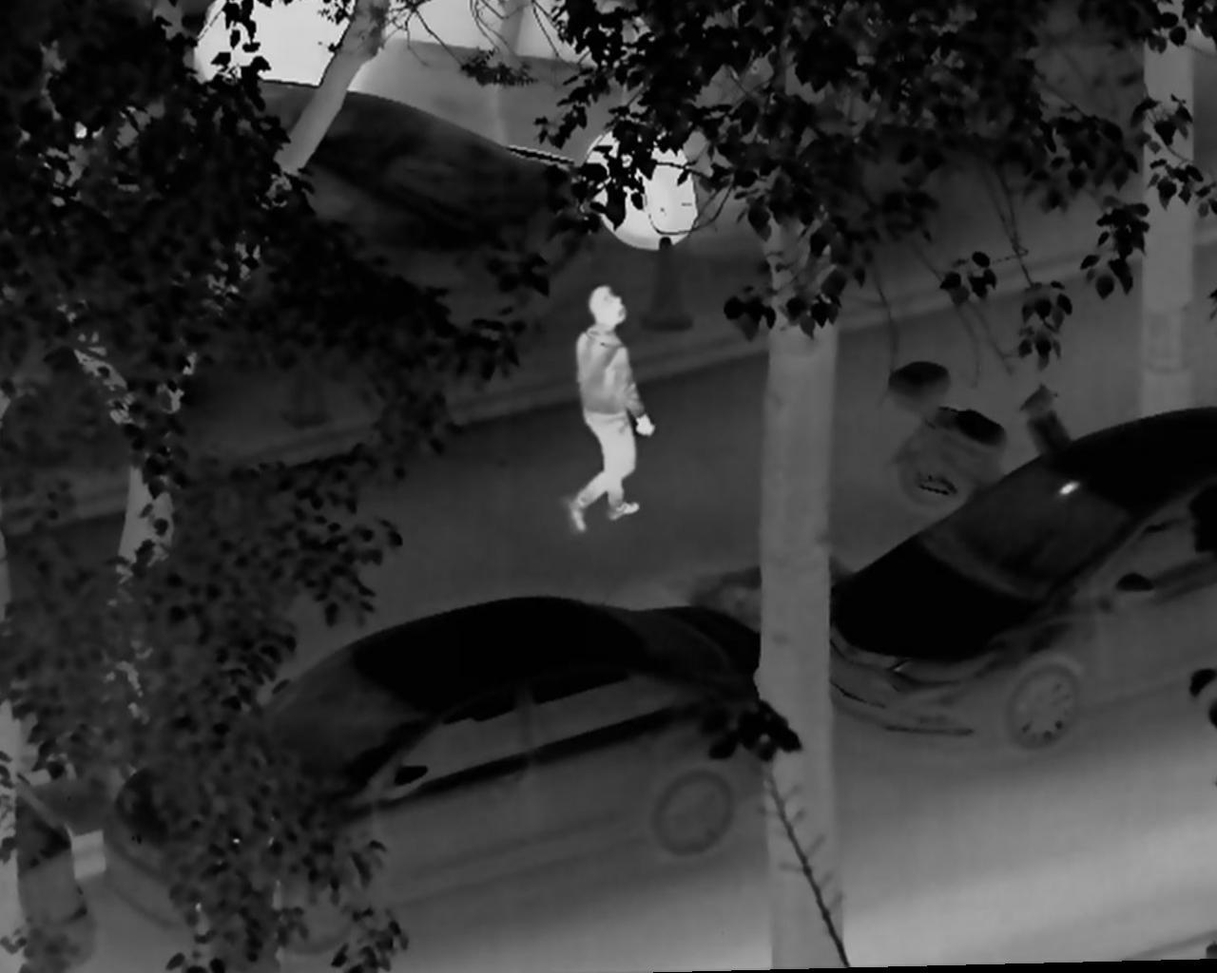person: (551, 282, 653, 536)
